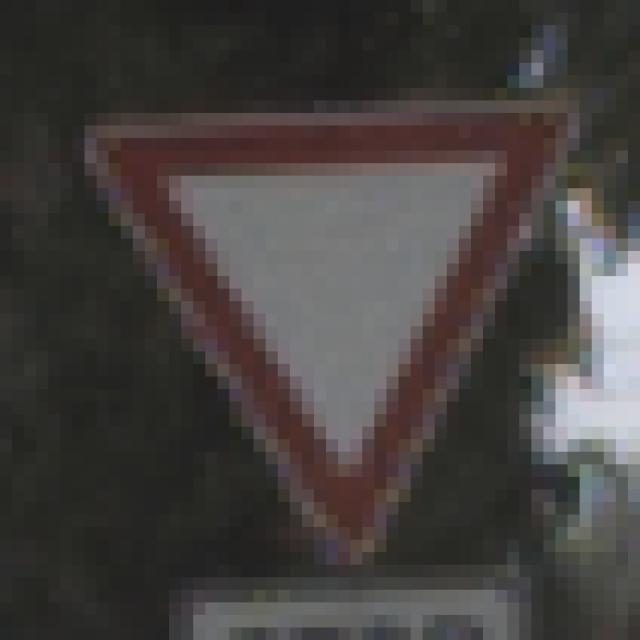Give Way: (62, 77, 581, 579)
